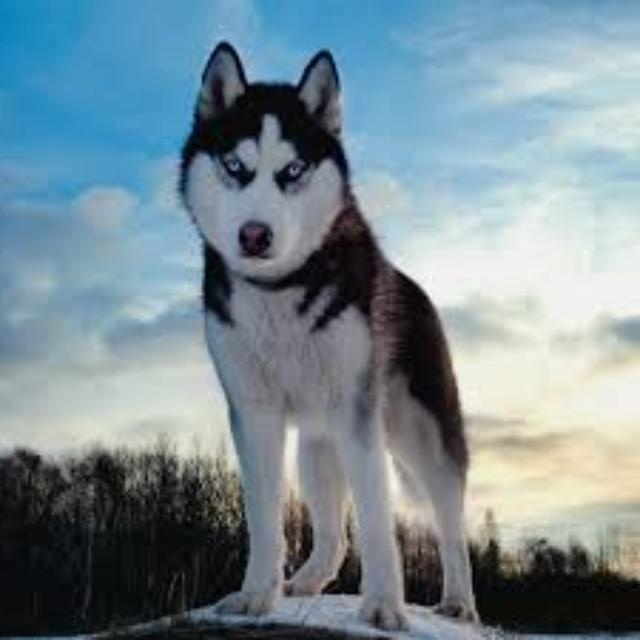dog: (120, 29, 511, 640)
